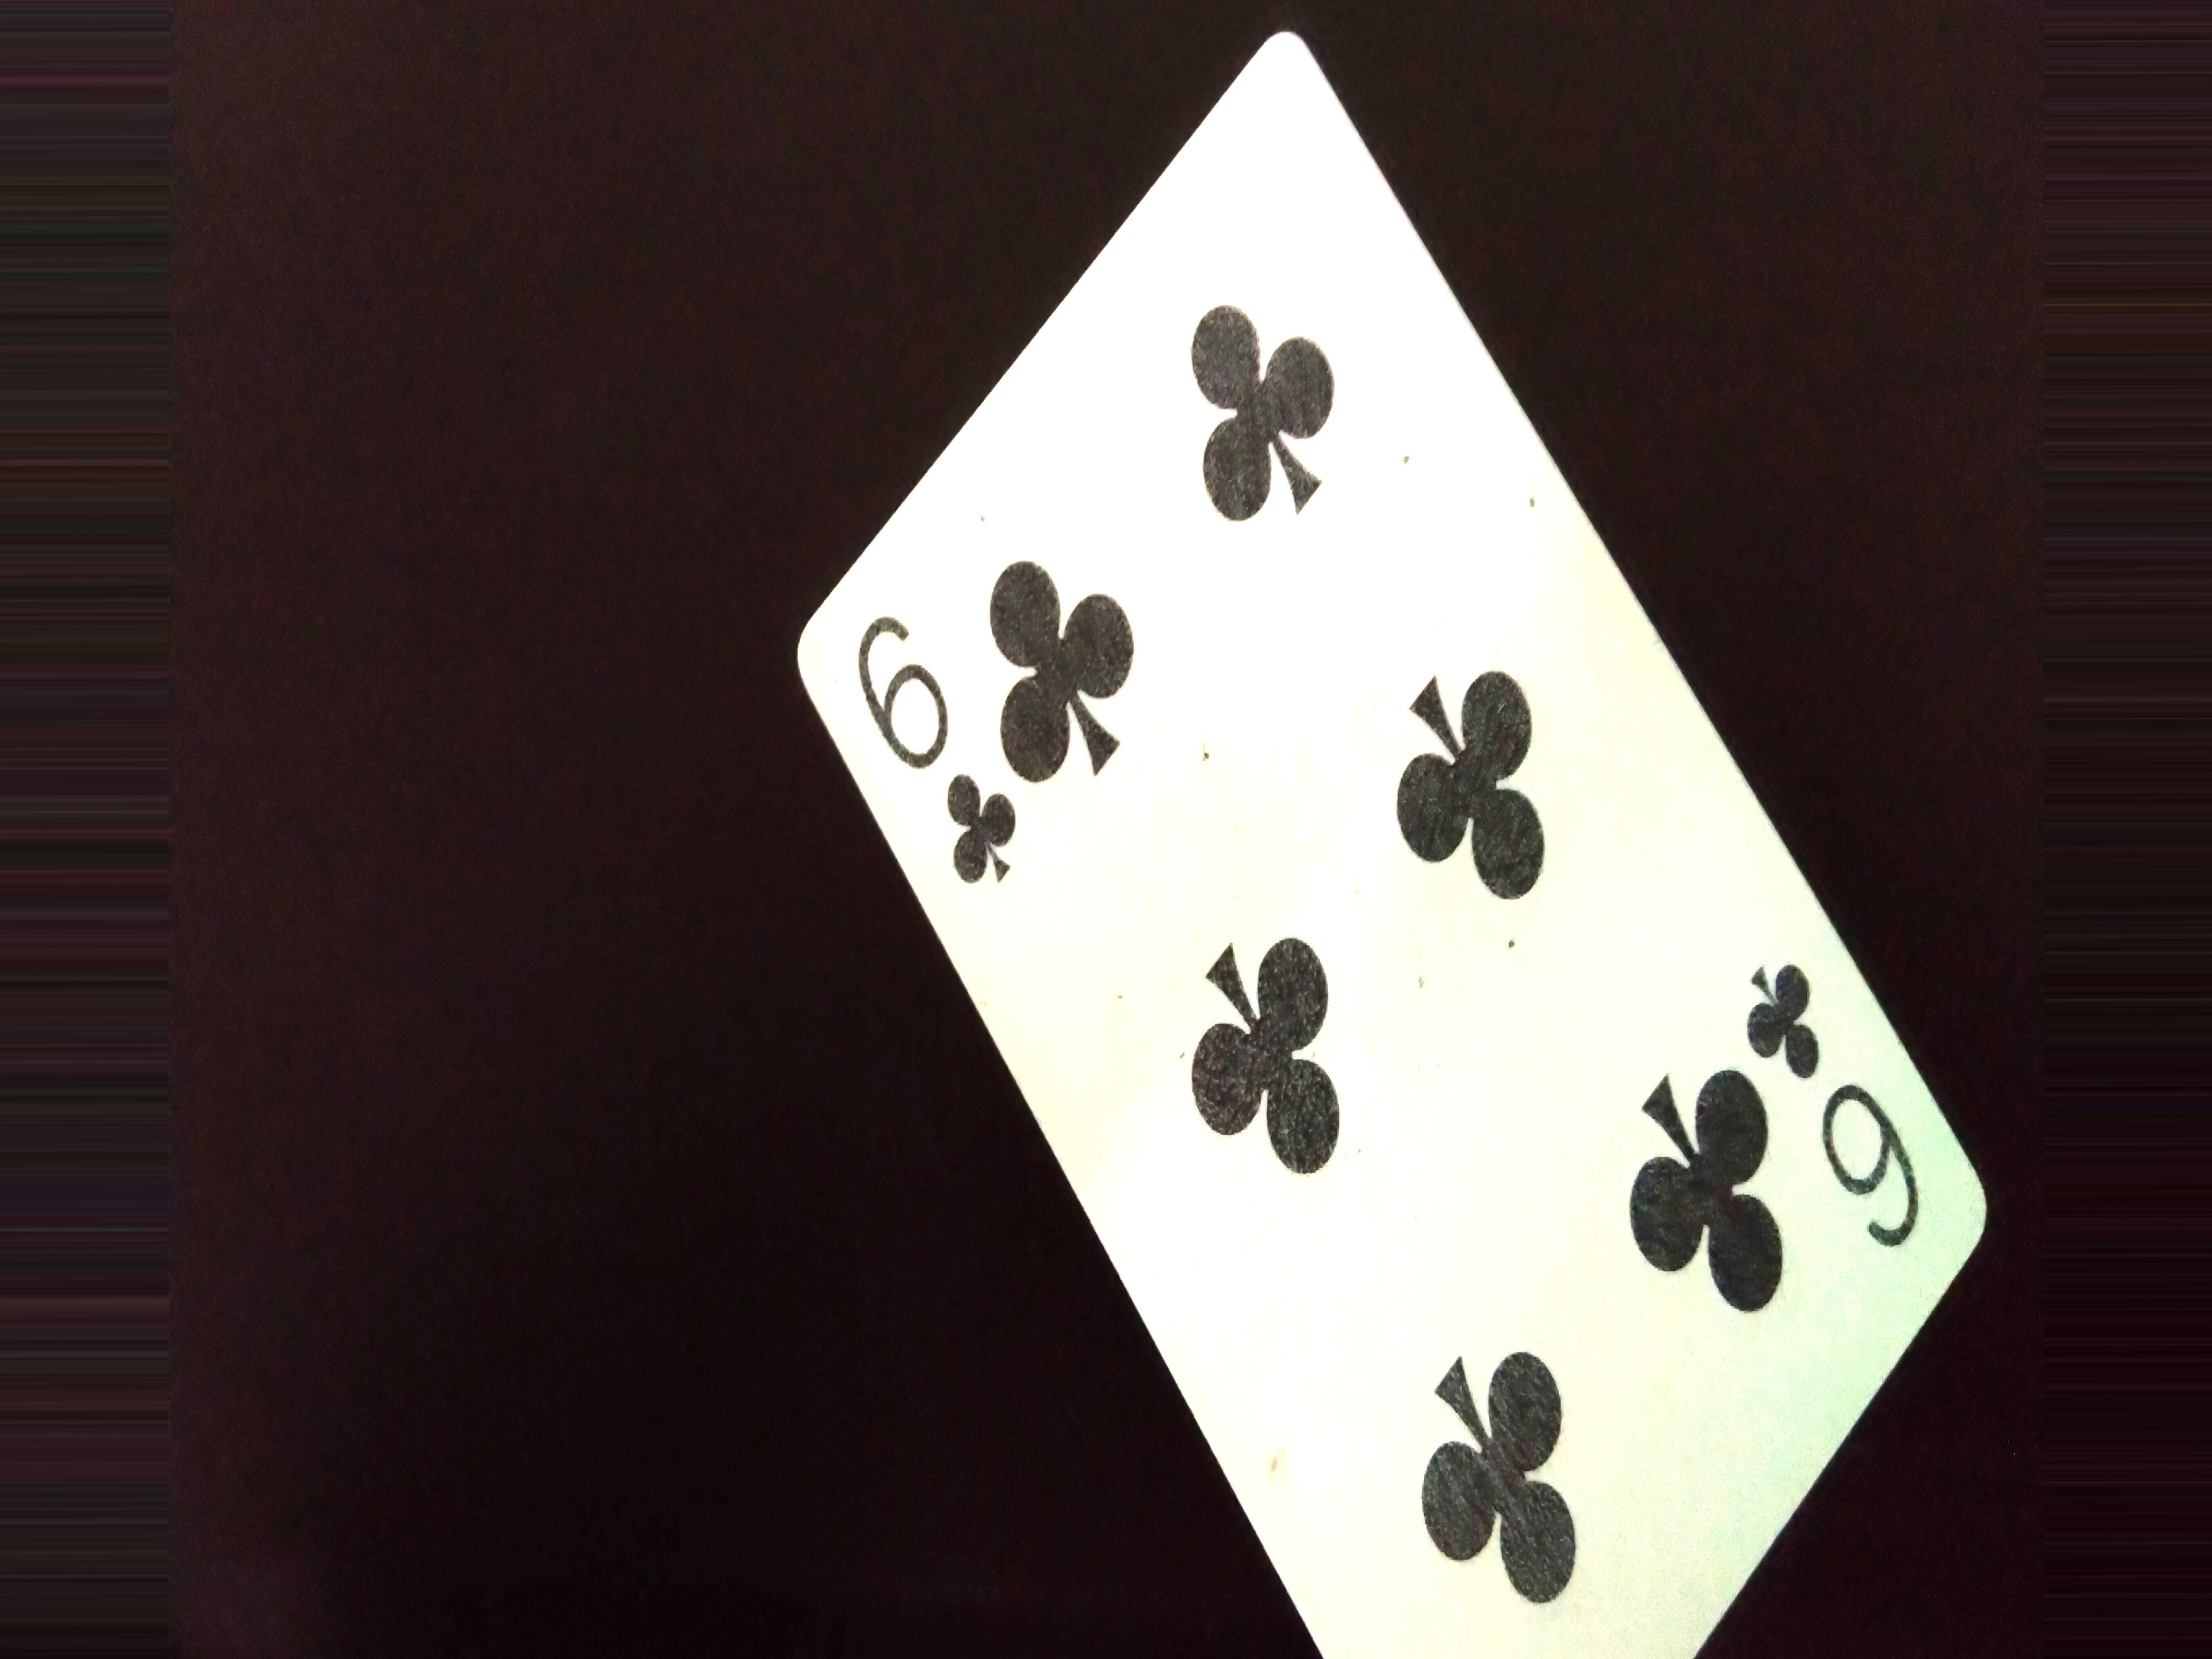6C: (843, 612, 1022, 894)
